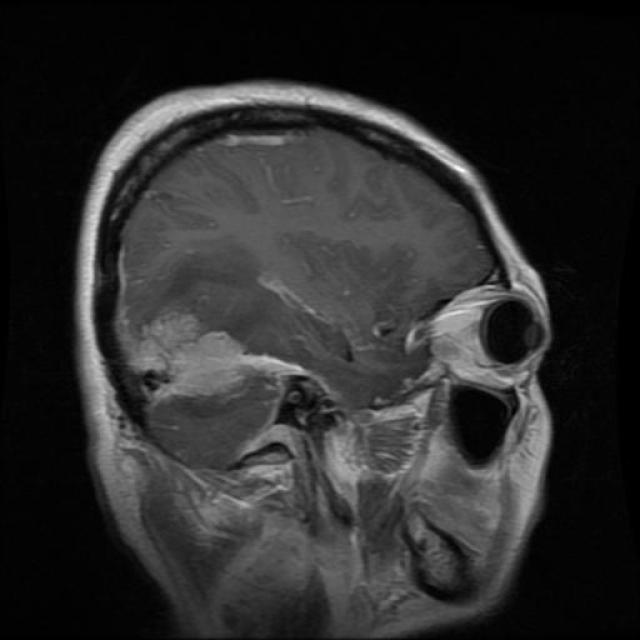meningioma: (129, 316, 304, 396)
